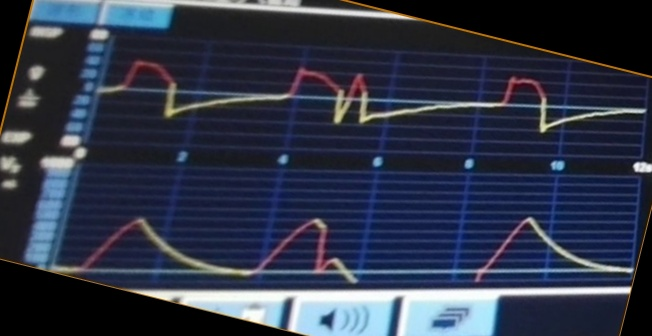Double_Triggering Flow: (107, 56, 573, 146)
Double_Triggering Volume: (86, 205, 584, 280)
